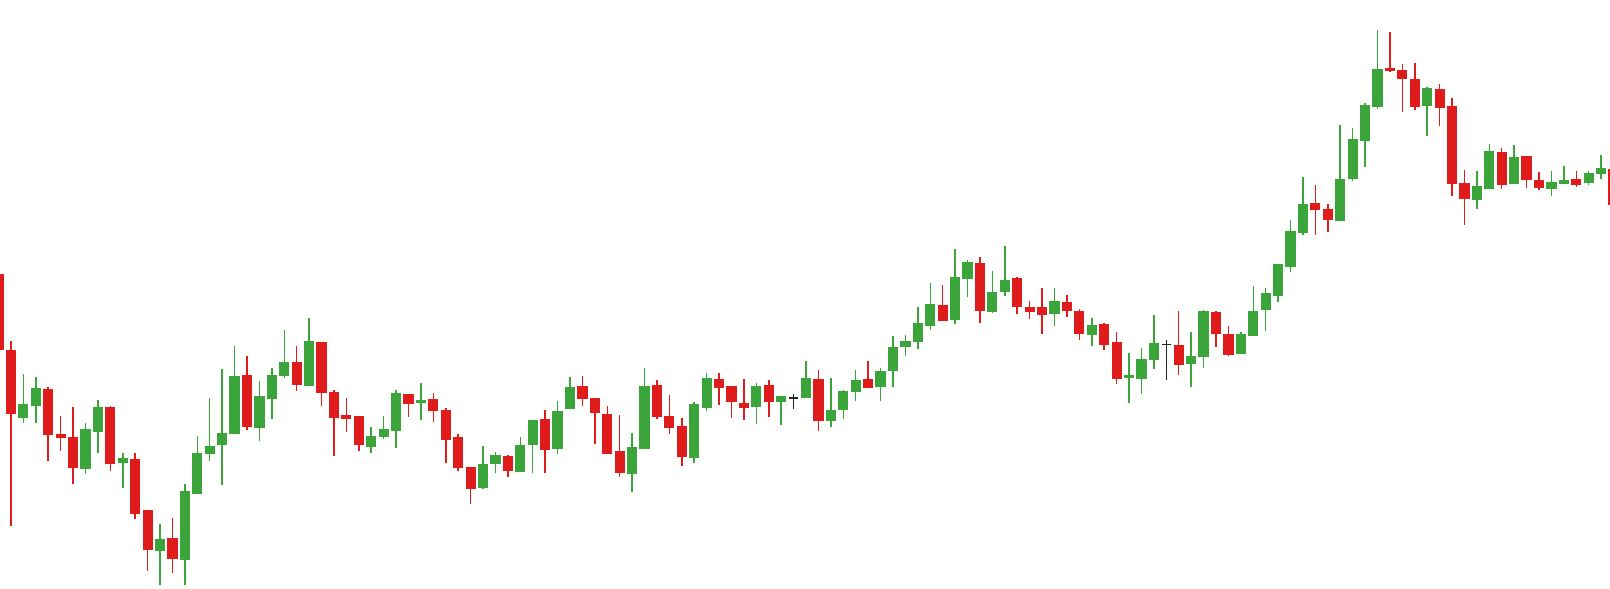buy: (529, 407, 639, 503)
